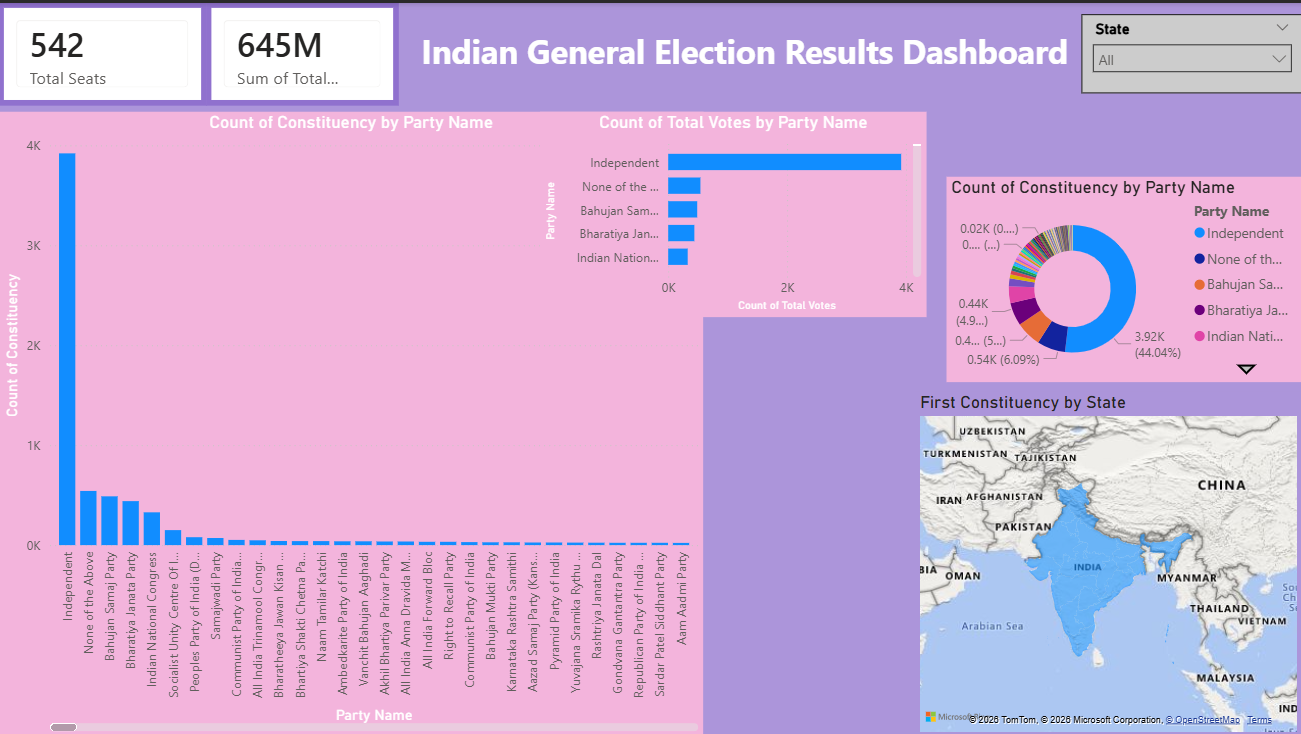

The page's visual inventory and layout, read from the dashboard file:
{"tool":"powerbi","page":{"name":"State Analysis","canvas":[1280,720],"ordinal":0},"visuals":[{"type":"cardVisual","fields":{"Data":["final_election_result_data.Total Seats"]},"box":[0,0,203.7,100.6],"z":0},{"type":"clusteredColumnChart","fields":{"Category":["final_election_result_data.Party Name"],"Y":["CountNonNull(final_election_result_data.Constituency)"]},"box":[0,107,691.6,613.4],"z":1000},{"type":"filledMap","fields":{"Category":["final_election_result_data.State"]},"box":[899.4,381.6,380.4,338.7],"z":2000},{"type":"slicer","fields":{"Values":["final_election_result_data.State"]},"box":[1062.6,11,217.2,77.3],"z":3000},{"type":"cardVisual","fields":{"Data":["Sum(final_election_result_data.Total Votes)"]},"box":[203.7,0,189,100.6],"z":4000},{"type":"donutChart","fields":{"Category":["final_election_result_data.Party Name"],"Y":["CountNonNull(final_election_result_data.Constituency)"]},"box":[930.1,170.6,349.7,201.2],"z":5000},{"type":"clusteredBarChart","fields":{"Category":["final_election_result_data.Party Name"],"Y":["CountNonNull(final_election_result_data.Total Votes)"]},"box":[531.3,106.7,379.1,201.2],"z":6000},{"type":"textbox","box":[392.6,20.9,678.5,77.3],"z":7000}]}

Visuals, with their boxes in screenshot pixels (x1, y1, x2, y2), scaled from the page's 1280x720 canvas onto the 1301x734 screenshot:
cardVisual - final_election_result_data.Total Seats: <box>0,0,207,103</box>
clusteredColumnChart - final_election_result_data.Party Name x CountNonNull(final_election_result_data.Constituency): <box>0,109,703,733</box>
filledMap - final_election_result_data.State: <box>914,389,1300,733</box>
slicer - final_election_result_data.State: <box>1080,11,1300,90</box>
cardVisual - Sum(final_election_result_data.Total Votes): <box>207,0,399,103</box>
donutChart - final_election_result_data.Party Name x CountNonNull(final_election_result_data.Constituency): <box>945,174,1300,379</box>
clusteredBarChart - final_election_result_data.Party Name x CountNonNull(final_election_result_data.Total Votes): <box>540,109,925,314</box>
textbox: <box>399,21,1089,100</box>
